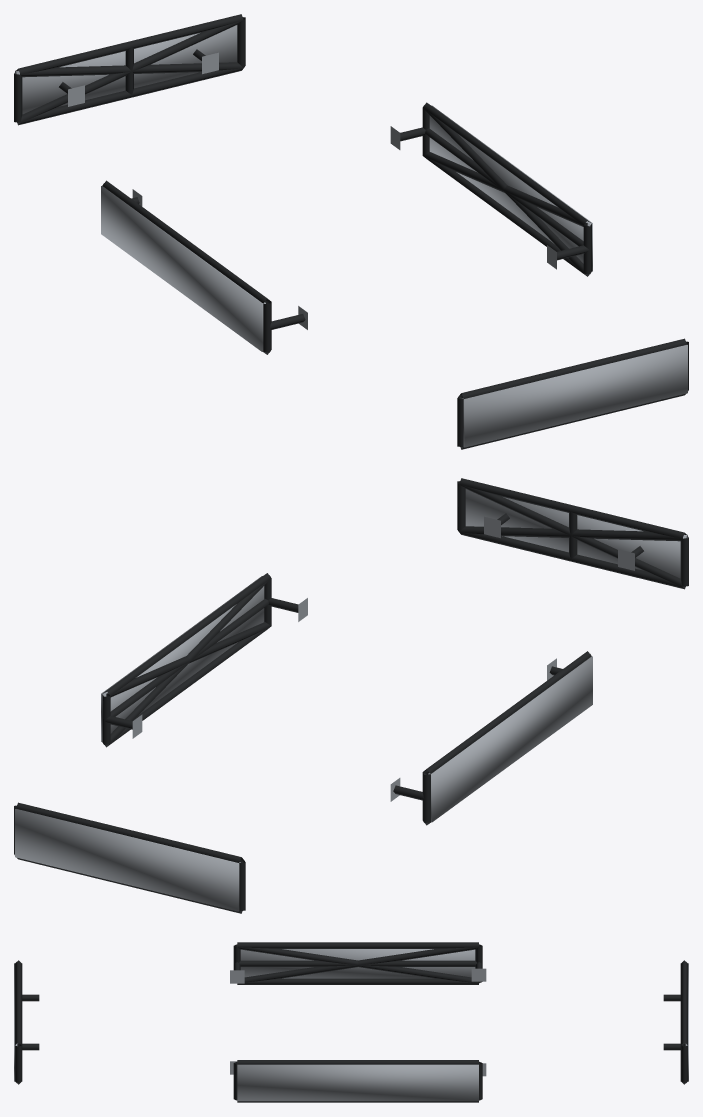
The model's file is keldorf_porta_protecao.glb.
3 views of the same model, one above another, from view 1: azimuth 30°, elevation 25°; view 2: azimuth 150°, elevation 25°; view 3: azimuth 270°, elevation 25° (orthographic). The views are drawn at different scales.
Parts seen in each view (by area): view 1: Protection_front_Level3_Details, Protection_left_Level3_Details, Protection_rear_Level1_Details, Protection_rear_Level3_Details, Protection_right_Level1_Details, Protection_right_Level2_Details, Protection_rear_Level2_Details, Protection_right_Level3_Details, Protection_front_Level1_Details, Protection_left_Level1_Details; view 2: Protection_rear_Level3_Details, Protection_left_Level3_Details, Protection_front_Level1_Details, Protection_front_Level3_Details, Protection_right_Level1_Details, Protection_right_Level2_Details, Protection_front_Level2_Details, Protection_right_Level3_Details, Protection_rear_Level1_Details, Protection_left_Level1_Details; view 3: Protection_right_Level3_Details, Protection_left_Level2_Details, Protection_left_Level1_Details, Protection_left_Level3_Details, Protection_right_Level1_Details, Protection_rear_Level1_Details, Protection_front_Level1_Details.
Part boxes in pixels (x1,y1,x2,y2): Protection_front_Level3_Details: [462, 345, 687, 447]; Protection_left_Level3_Details: [101, 186, 265, 351]; Protection_rear_Level1_Details: [14, 14, 245, 125]; Protection_rear_Level3_Details: [15, 25, 237, 114]; Protection_right_Level1_Details: [390, 102, 591, 276]; Protection_right_Level2_Details: [423, 108, 590, 276]; Protection_rear_Level2_Details: [15, 20, 243, 124]; Protection_right_Level3_Details: [429, 105, 592, 271]; Protection_front_Level1_Details: [457, 338, 688, 449]; Protection_left_Level1_Details: [102, 180, 307, 354]; Protection_rear_Level3_Details: [15, 809, 240, 911]; Protection_left_Level3_Details: [428, 656, 592, 822]; Protection_front_Level1_Details: [457, 478, 688, 589]; Protection_front_Level3_Details: [465, 489, 687, 578]; Protection_right_Level1_Details: [102, 573, 307, 747]; Protection_right_Level2_Details: [103, 579, 270, 746]; Protection_front_Level2_Details: [459, 484, 687, 588]; Protection_right_Level3_Details: [101, 576, 264, 741]; Protection_rear_Level1_Details: [14, 802, 245, 913]; Protection_left_Level1_Details: [390, 651, 591, 825]; Protection_right_Level3_Details: [237, 1064, 478, 1101]; Protection_left_Level2_Details: [237, 945, 479, 983]; Protection_left_Level1_Details: [230, 942, 486, 984]; Protection_left_Level3_Details: [240, 949, 475, 978]; Protection_right_Level1_Details: [230, 1060, 486, 1102]; Protection_rear_Level1_Details: [663, 960, 687, 1084]; Protection_front_Level1_Details: [15, 960, 39, 1084].
Size of the model in its own units: 2.16 by 0.354 by 5.08.
Materials: 1 (1 with a texture image).
